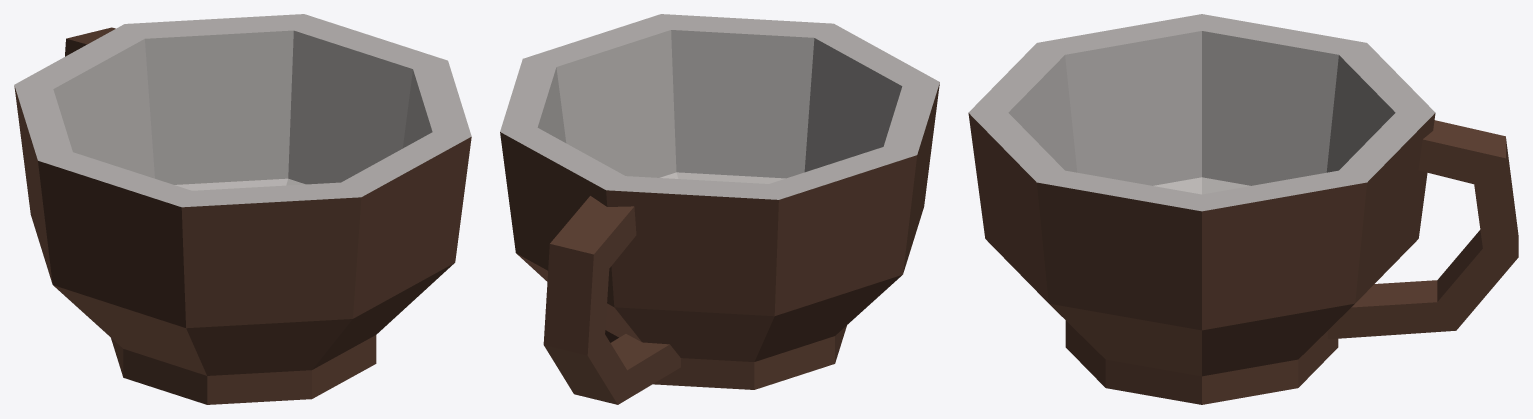
Rendered from SM_Prop_Food_Cup_03.obj.
3 views of the same model, side by side, from view 1: azimuth 30°, elevation 25°; view 2: azimuth 150°, elevation 25°; view 3: azimuth 270°, elevation 25° (orthographic). The views are drawn at different scales.
Parts seen in each view (by area): view 1: SM_Prop_Food_Cup_03_0; view 2: SM_Prop_Food_Cup_03_0; view 3: SM_Prop_Food_Cup_03_0.
Part boxes in pixels (x1,y1,x2,y2): SM_Prop_Food_Cup_03_0: (14,14,471,404); SM_Prop_Food_Cup_03_0: (500,14,939,404); SM_Prop_Food_Cup_03_0: (968,14,1518,404).
Bounding box in the file's own units: 0.1673 × 0.0927 × 0.197.
Materials: 1 (1 with a texture image).
